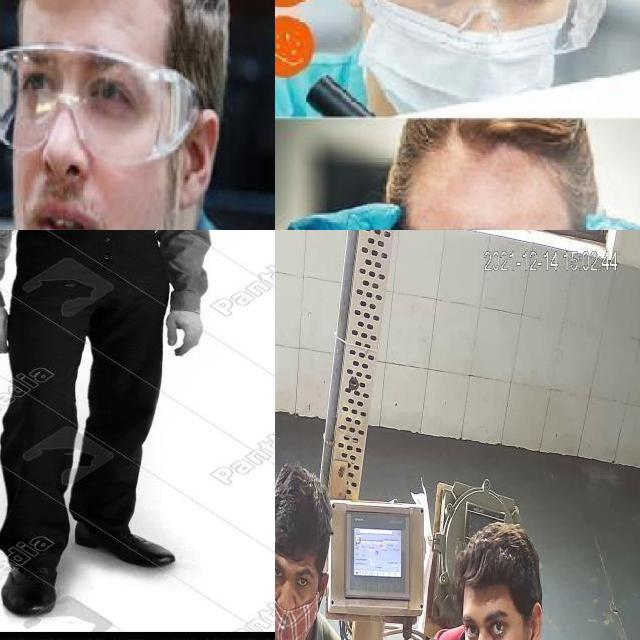No_Ear-Protection: (165, 104, 225, 206), (524, 597, 548, 640)
No_Glasses: (455, 601, 521, 640), (275, 550, 319, 595)
face_mask: (367, 0, 570, 122), (275, 560, 322, 640)
face_nomask: (11, 44, 150, 230), (461, 608, 523, 640)
glasses: (0, 41, 197, 169), (345, 0, 604, 61)
hand_noglove: (152, 294, 209, 361), (0, 300, 16, 365)
head_nohelmet: (452, 520, 543, 598), (275, 462, 336, 564)
person: (0, 230, 212, 616), (0, 0, 275, 230), (373, 519, 616, 640), (275, 458, 371, 640)
